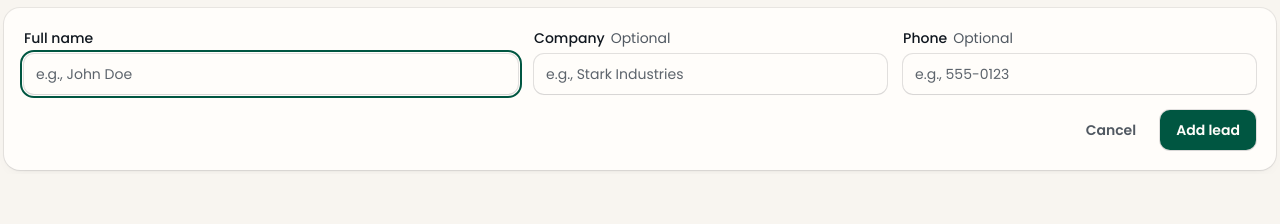
Test case: AddLeadPanel › shows the server error when saving fails
Type "Dana" into the field labelled "Full name". click: (271,74)
box: [24,54,518,94]
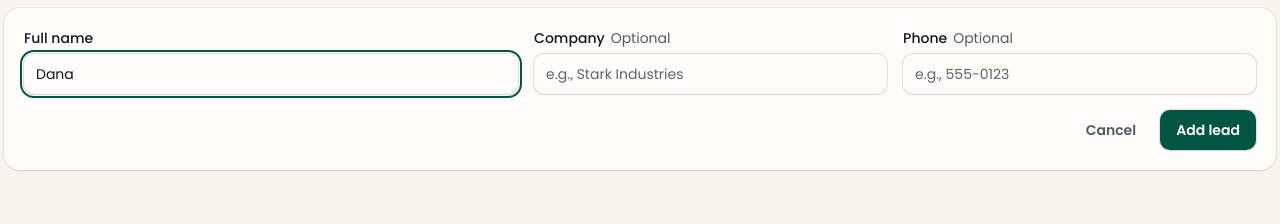
Click the button "Add lead". click: (1208,130)
box: [1160,110,1256,150]
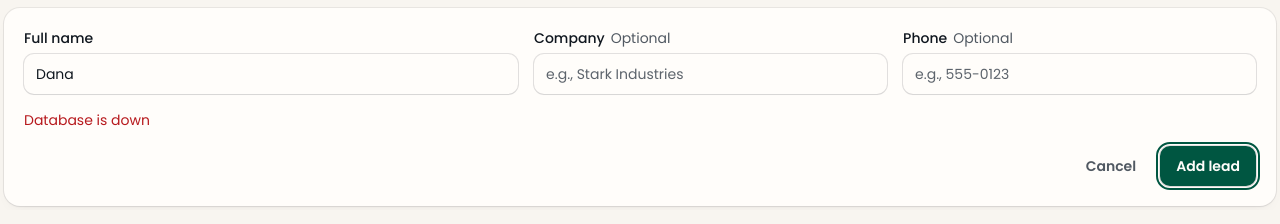
Expected: the text "Database is down" is shown, [24,110,150,130]
